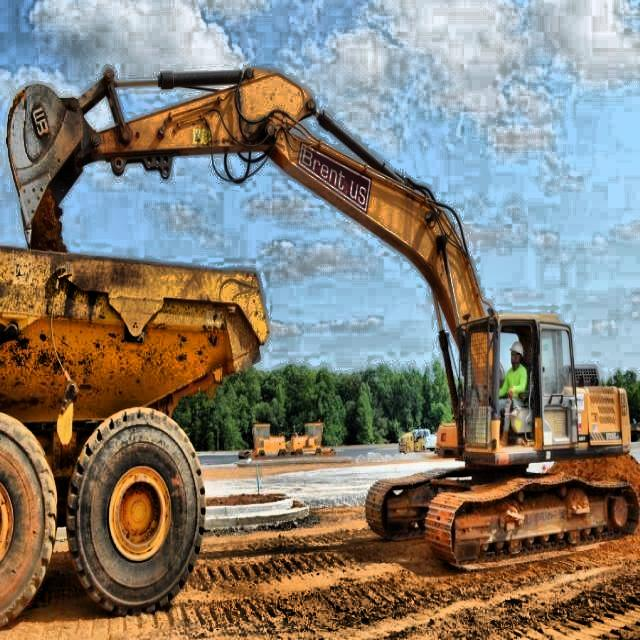excavator: (5, 63, 640, 573)
